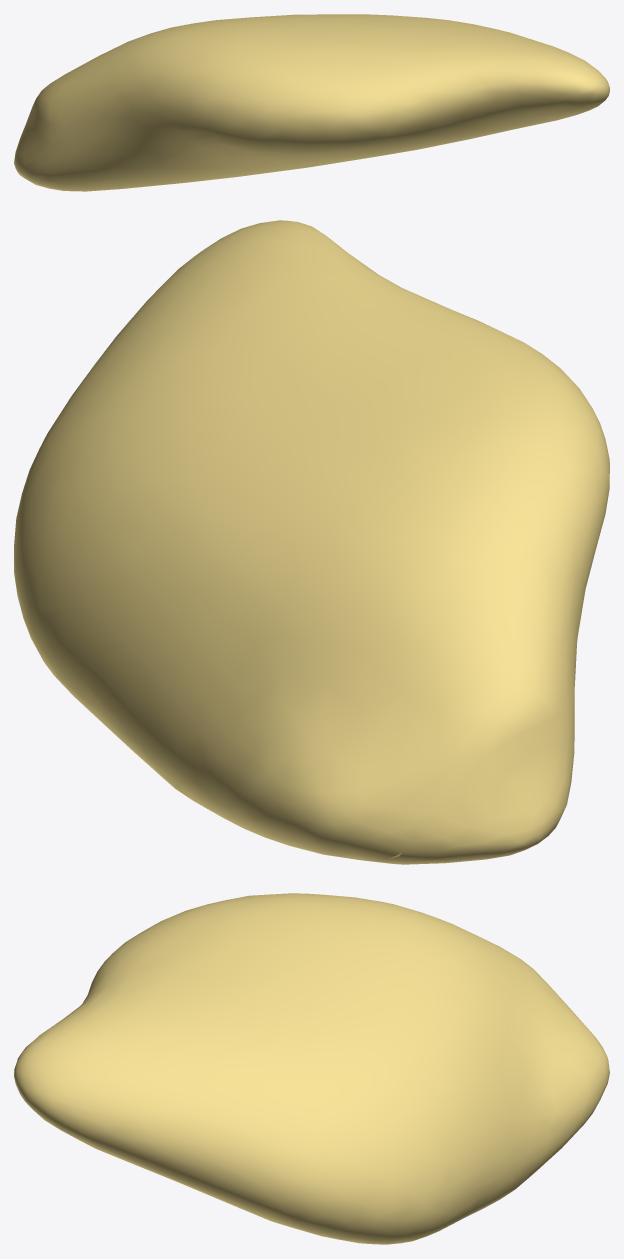
The model's file is fma73065_mm2800m.glb.
The picture shows the model from 3 angles, top to bottom: view 1: azimuth 30°, elevation 25°; view 2: azimuth 150°, elevation 25°; view 3: azimuth 270°, elevation 25°; orthographic projection. The views are drawn at different scales.
Visible parts, largest first — view 1: FMA73065_MM2800M; view 2: FMA73065_MM2800M; view 3: FMA73065_MM2800M.
Boxes of the visible parts, x1,y1,x2,y2 form: FMA73065_MM2800M: (14,14,609,191); FMA73065_MM2800M: (14,220,609,864); FMA73065_MM2800M: (14,893,609,1244).
Size of the model in its own units: 0.00753 by 0.00353 by 0.00779.
